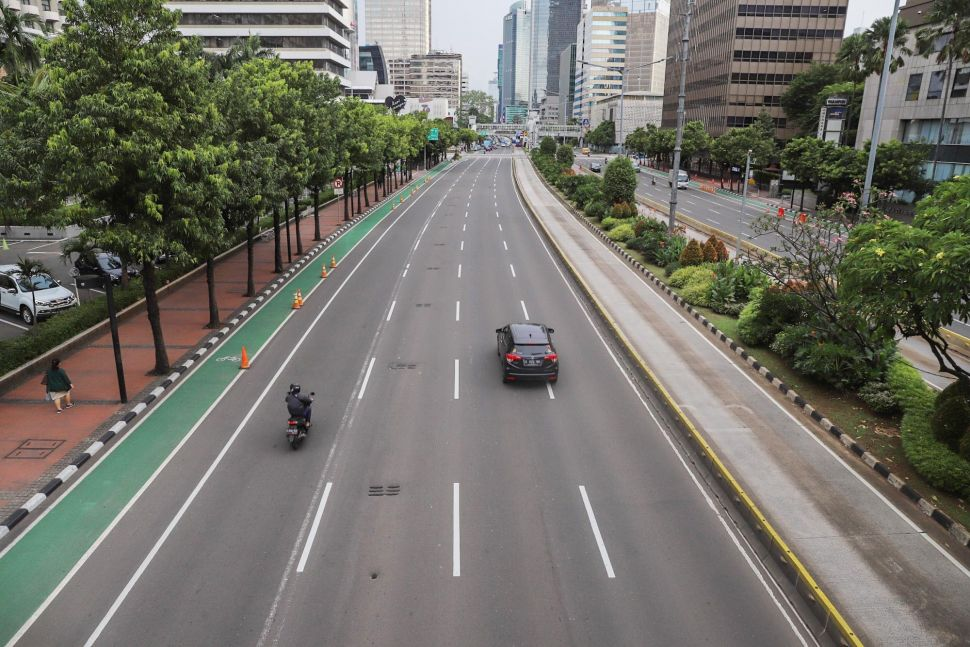car: (1, 262, 82, 332), (497, 324, 561, 390)
motorbike: (282, 386, 315, 451)
